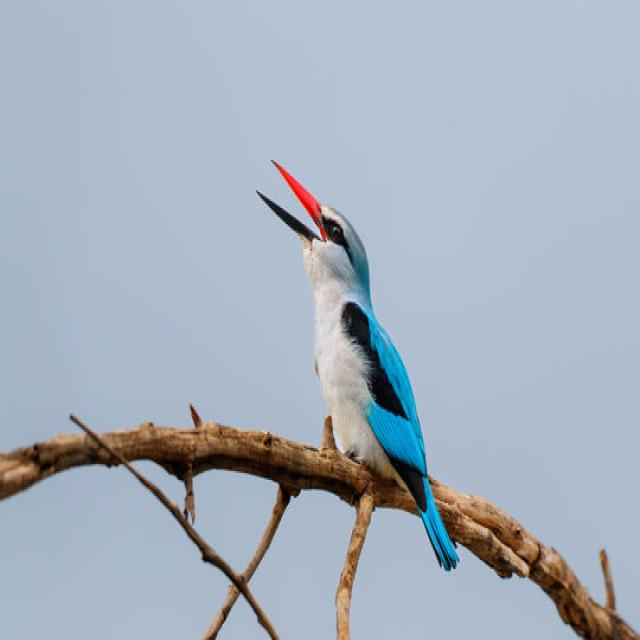kingfisher: (219, 152, 496, 584)
